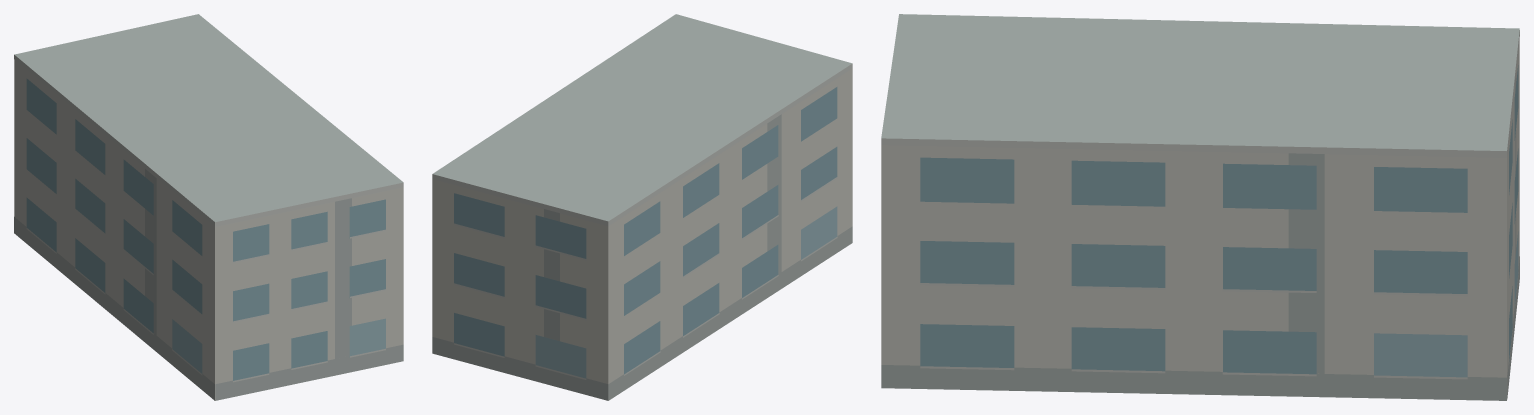
The model's file is survey-upis-32585652.glb.
The picture shows the model from 3 angles, left to right: view 1: azimuth 30°, elevation 25°; view 2: azimuth 150°, elevation 25°; view 3: azimuth 270°, elevation 25°; orthographic projection. The views are drawn at different scales.
Visible parts, largest first — view 1: survey-upis-32585652.tmp; view 2: survey-upis-32585652.tmp; view 3: survey-upis-32585652.tmp.
Part boxes in pixels (x1=…): survey-upis-32585652.tmp: x1=14, y1=14, x2=403, y2=400; survey-upis-32585652.tmp: x1=432, y1=14, x2=852, y2=400; survey-upis-32585652.tmp: x1=881, y1=14, x2=1519, y2=400.
Bounding box in the file's own units: 10.78 × 9.15 × 21.22.
